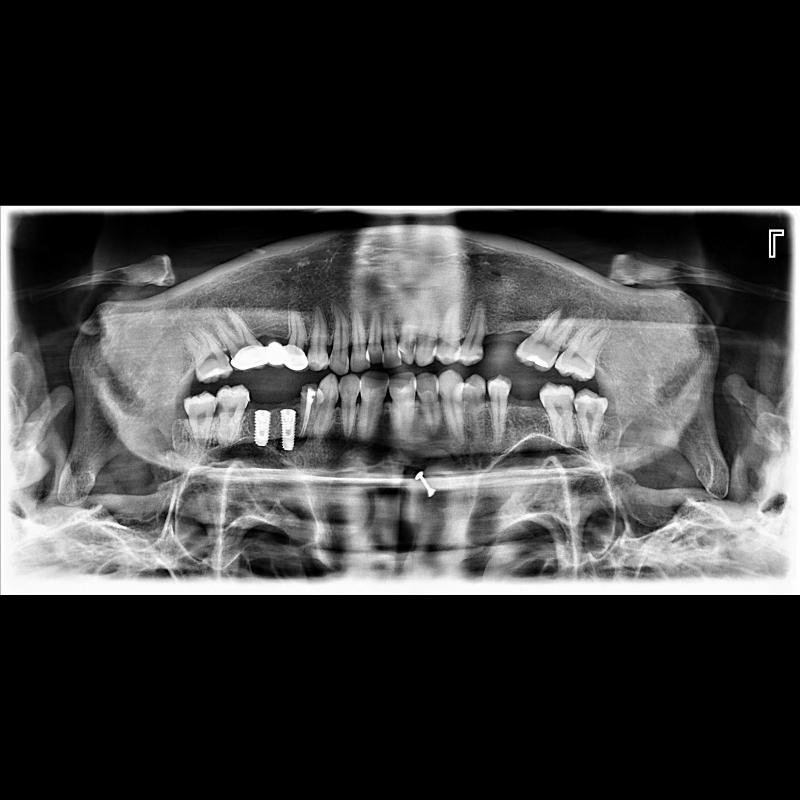osstem: (275, 408, 301, 450), (253, 410, 279, 446)
